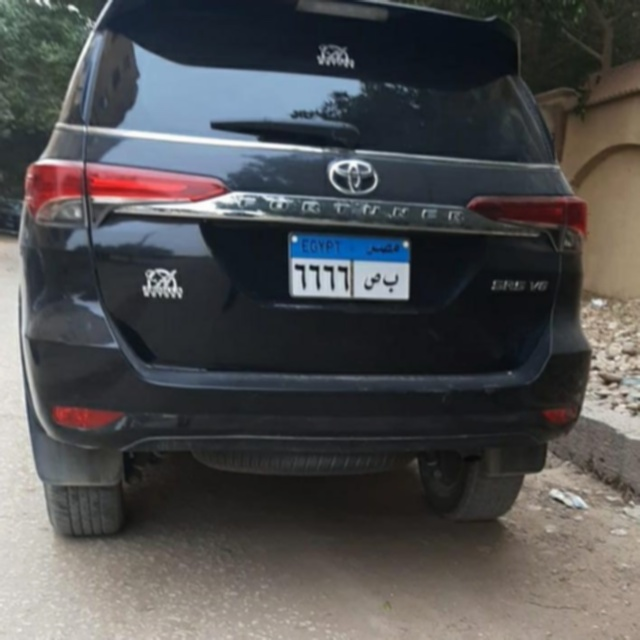License Plate: (286, 229, 411, 303)
